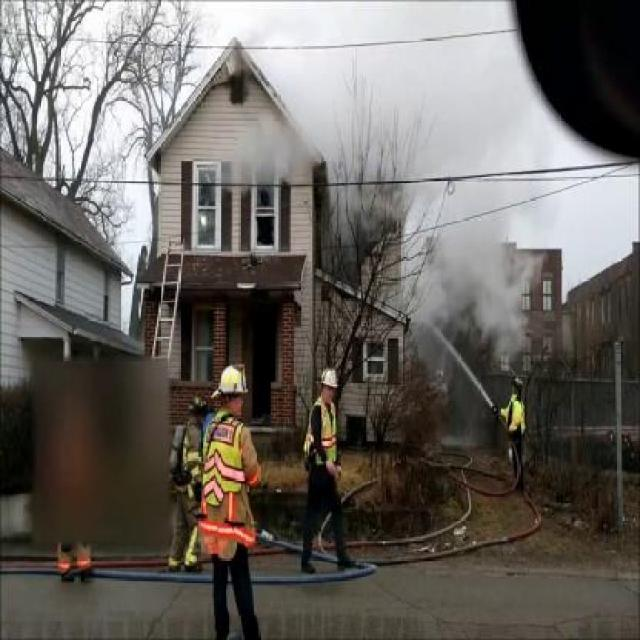smoke: (264, 25, 556, 373), (220, 122, 298, 196)
